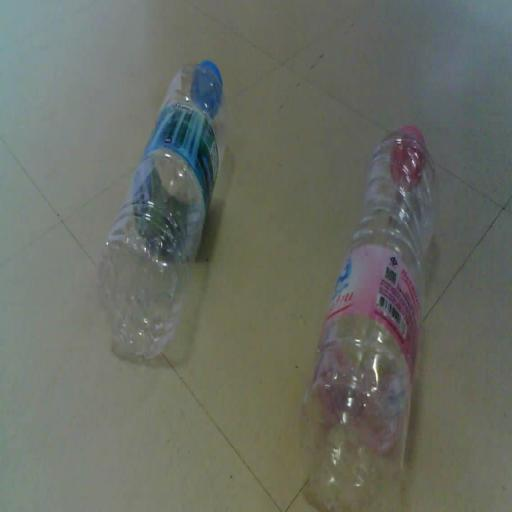bottle: (298, 127, 436, 512), (95, 60, 224, 363)
